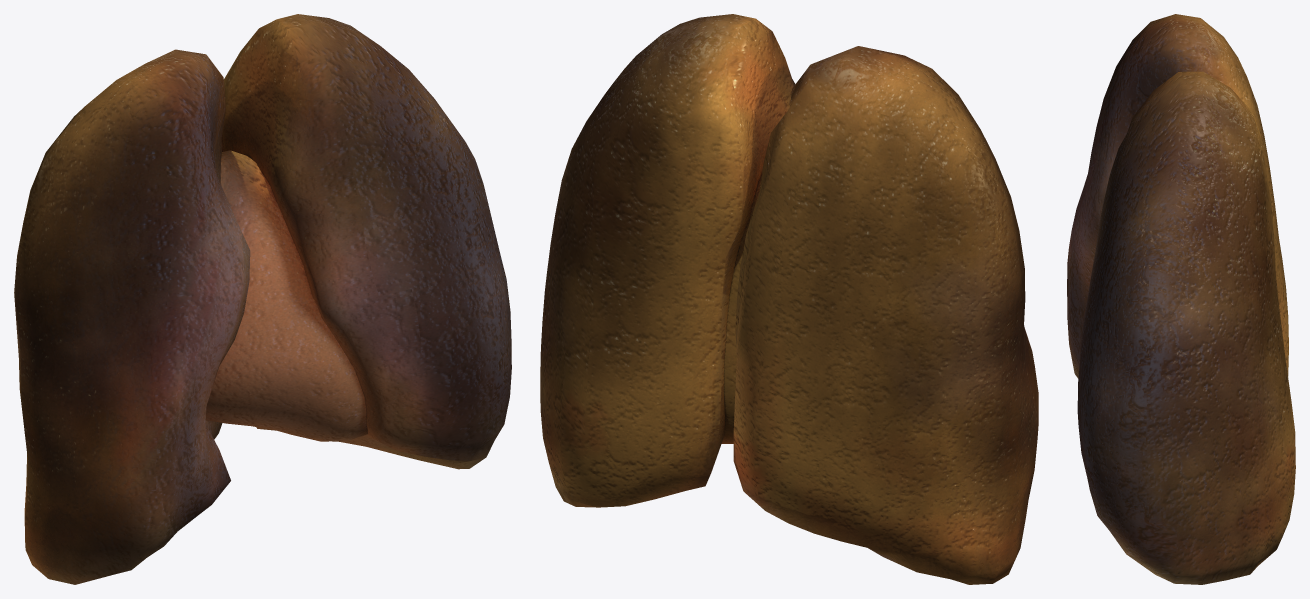
File: paru.fbx
3 views of the same model, side by side, from view 1: azimuth 30°, elevation 25°; view 2: azimuth 150°, elevation 25°; view 3: azimuth 270°, elevation 25° (orthographic). The views are drawn at different scales.
Parts seen in each view (by area): view 1: uploads_files_2015339_Human_Lung_Low_Poly.002; view 2: uploads_files_2015339_Human_Lung_Low_Poly.002; view 3: uploads_files_2015339_Human_Lung_Low_Poly.002.
Boxes of the visible parts, bbox=[...] form: uploads_files_2015339_Human_Lung_Low_Poly.002: bbox=[14, 14, 511, 584]; uploads_files_2015339_Human_Lung_Low_Poly.002: bbox=[540, 14, 1038, 584]; uploads_files_2015339_Human_Lung_Low_Poly.002: bbox=[1067, 14, 1295, 584].
Size of the model in its own units: 194 by 200 by 91.93.
